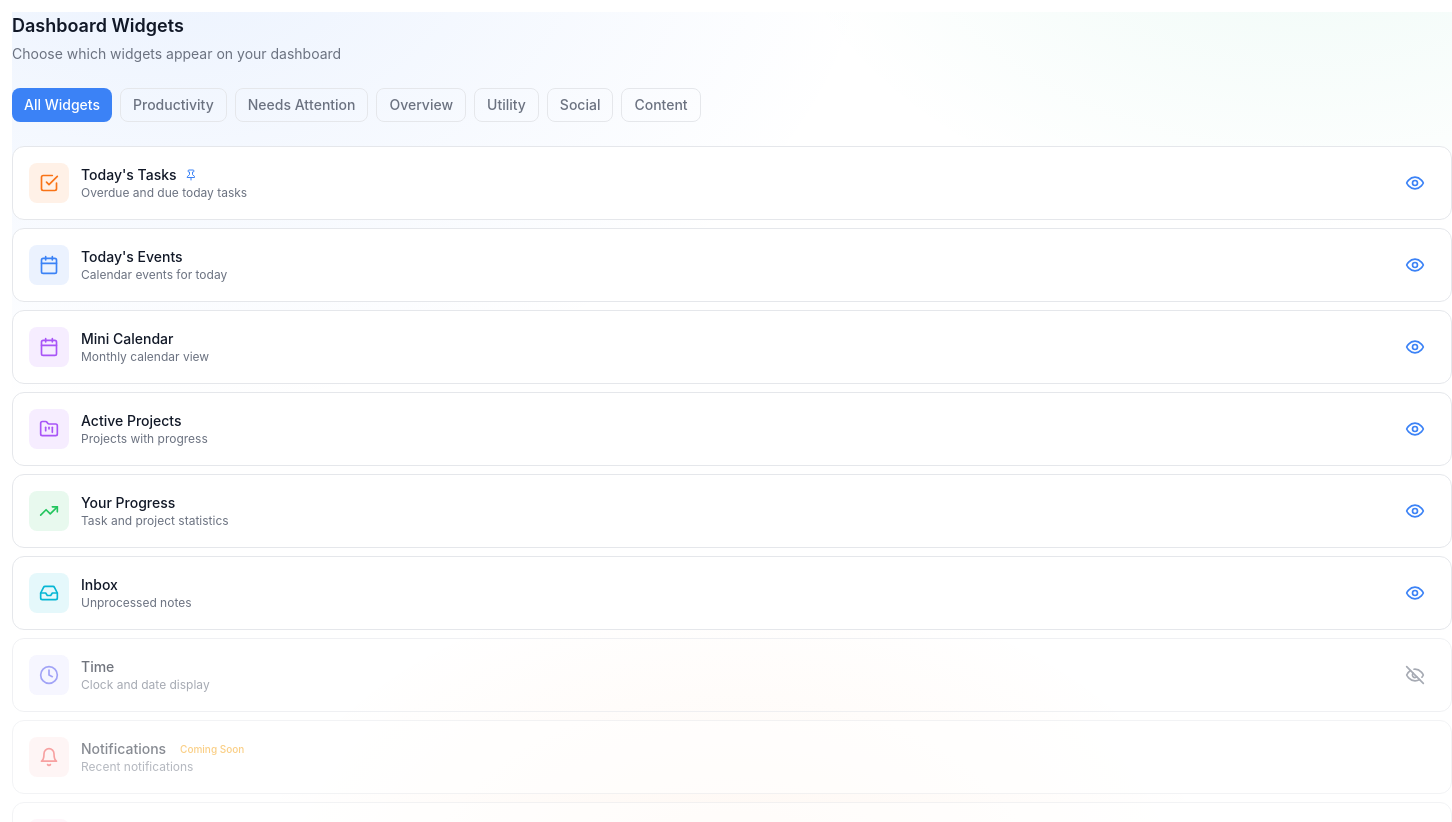
Test: WidgetsSettings › Category Filtering › filters widgets when a category is selected
Note: Click on Productivity filter
Click the button "Productivity". click: (173, 105)
box: x1=120 y1=88 x2=227 y2=122
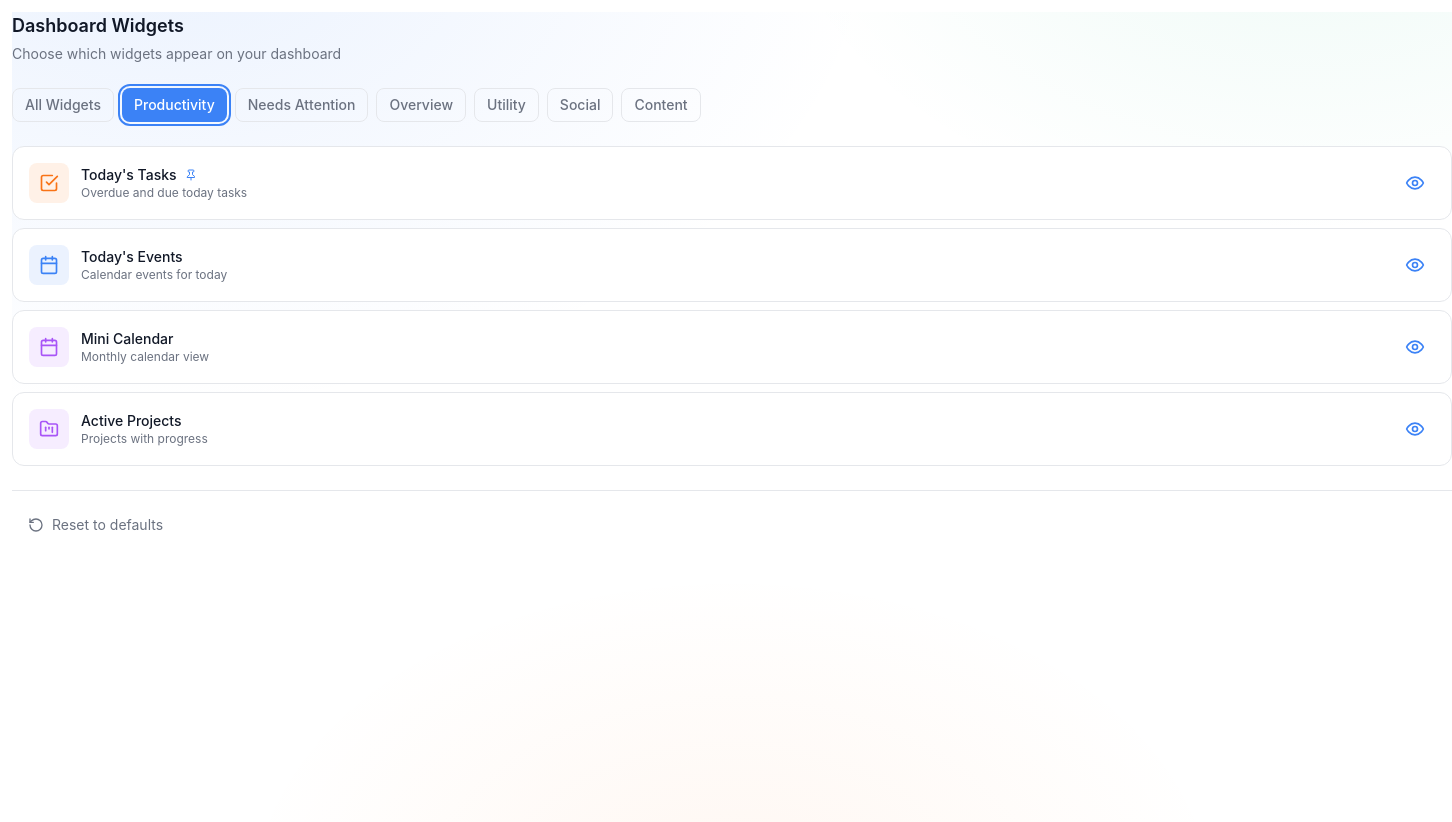
Check: the text "Today's Tasks" is shown, box x1=81 y1=165 x2=176 y2=185
Check: the text "Your Progress" is gone
Check: the text "Time" is gone
